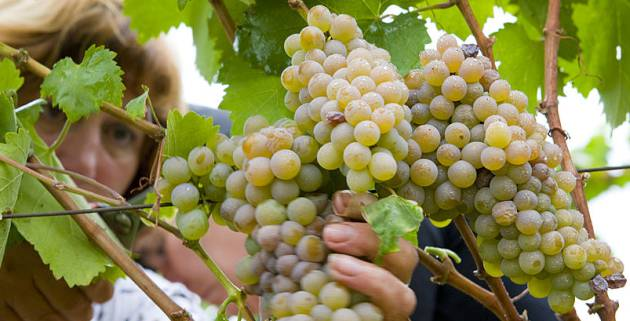Green grapes: (403, 49, 611, 302), (174, 131, 384, 321), (282, 18, 417, 186)
